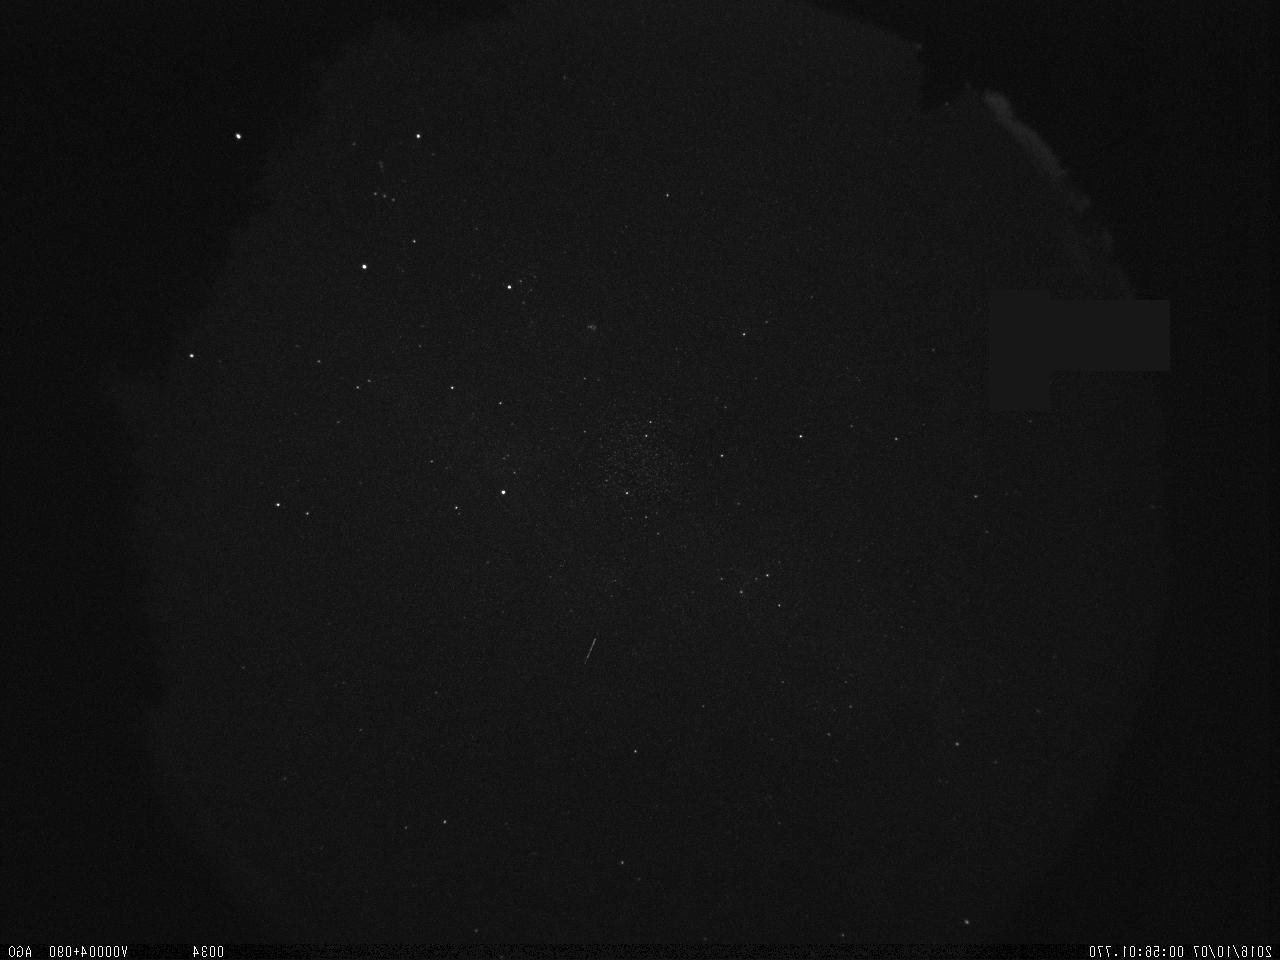meteor: (559, 603, 618, 698), (627, 405, 660, 478)
